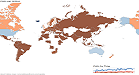

The page's visual inventory and layout, read from the dashboard file:
{"tool":"tableau","page":{"name":"BigMap","canvas":[860,640],"ordinal":1},"visuals":[{"type":"worksheet","title":"MapVIewsPerMillion","mark":"Multipolygon","box":[0,0,856,640]},{"type":"worksheet","title":"VisitByTime","mark":"Automatic","rows":["visits"],"cols":["date"],"box":[584.2,504.6,256,69.6]}]}

Visuals, with their boxes on the page's 860x640 design canvas (x1, y1, x2, y2). These are canvas units, not pixel positions in the 139x75 screenshot, which may show the page scaled, cropped or inside an application window:
"MapVIewsPerMillion" worksheet (Multipolygon marks): [x1=0, y1=0, x2=856, y2=640]
"VisitByTime" worksheet: [x1=584, y1=505, x2=840, y2=574]
